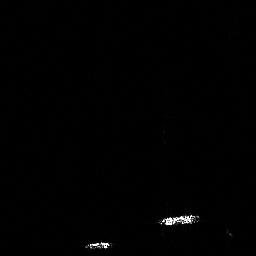ship: (156, 212, 201, 227), (82, 239, 114, 251)
